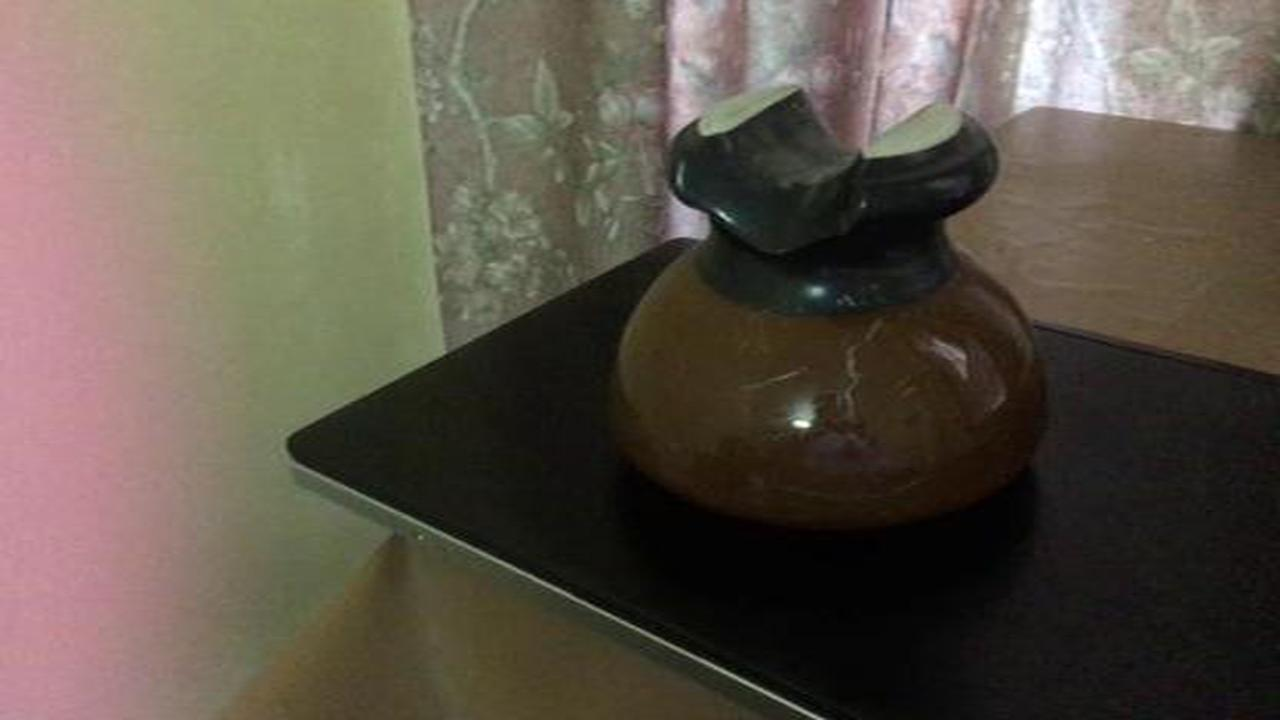insulator_pin: (588, 63, 1084, 551)
